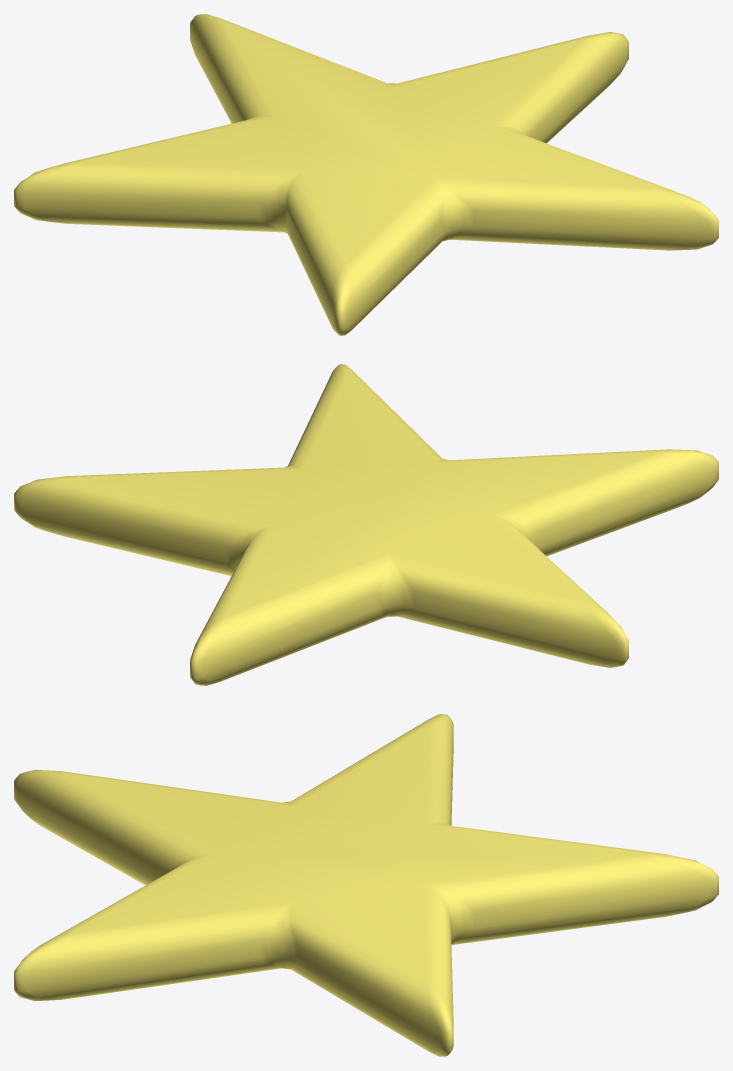
File: Star.fbx
3 renders of one model, top to bottom at view 1: azimuth 30°, elevation 25°; view 2: azimuth 150°, elevation 25°; view 3: azimuth 270°, elevation 25°, orthographic. The views are drawn at different scales.
Visible parts, largest first — view 1: Circle; view 2: Circle; view 3: Circle.
Boxes of the visible parts, bbox=[...] form: Circle: bbox=[14, 14, 718, 335]; Circle: bbox=[14, 364, 718, 685]; Circle: bbox=[14, 714, 718, 1056].
Size of the model in its own units: 280 by 25.96 by 267.
